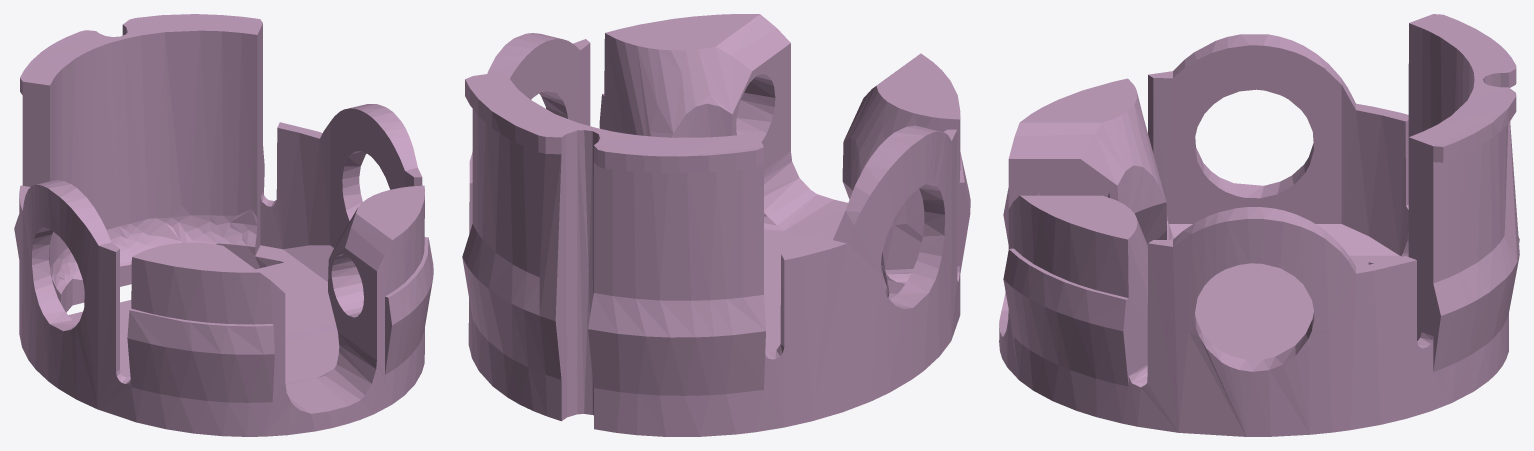
Rendered from i02_head_left_eye_vertical_visual_0.obj.light.glb.
The picture shows the model from 3 angles, left to right: view 1: azimuth 30°, elevation 25°; view 2: azimuth 150°, elevation 25°; view 3: azimuth 270°, elevation 25°; orthographic projection. The views are drawn at different scales.
Size of the model in its own units: 0.1896 by 0.1261 by 0.225.
